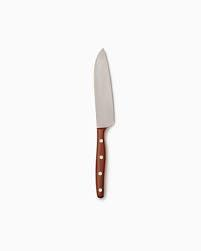Knife: (93, 47, 115, 198)
